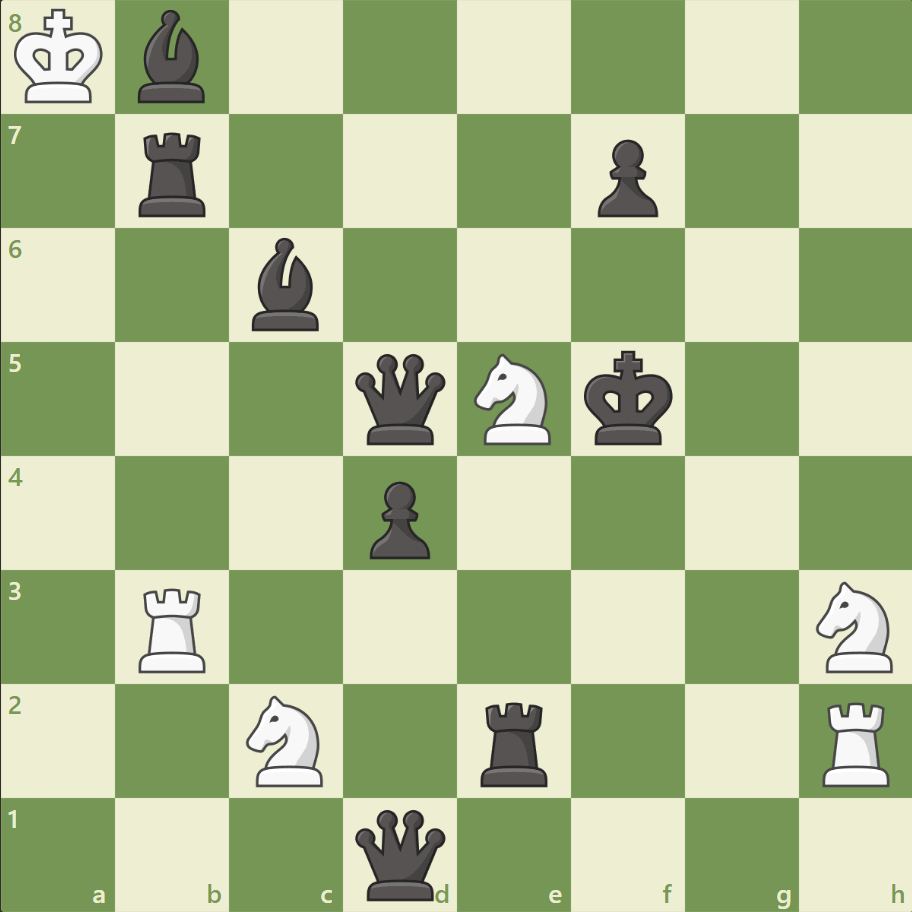K: (11, 4, 111, 112)
N: (238, 688, 335, 791), (465, 348, 562, 450), (806, 575, 903, 677)
R: (814, 693, 897, 790), (133, 579, 215, 676)
b: (131, 6, 215, 109), (244, 233, 328, 336)
k: (579, 344, 679, 452)
p: (588, 132, 662, 223), (361, 473, 435, 564)
q: (351, 349, 450, 449), (351, 804, 450, 903)
r: (473, 693, 556, 790), (133, 125, 215, 222)
